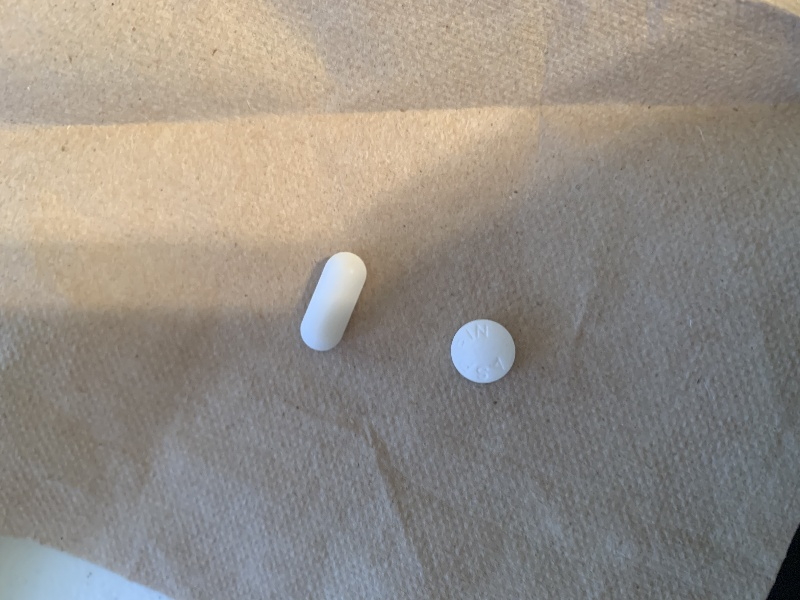Aspirin: (447, 303, 523, 396)
Tylenol: (281, 249, 396, 355)
